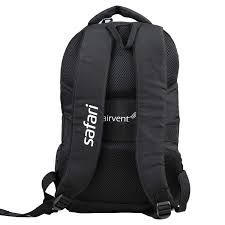backpack: (0, 4, 190, 219)
